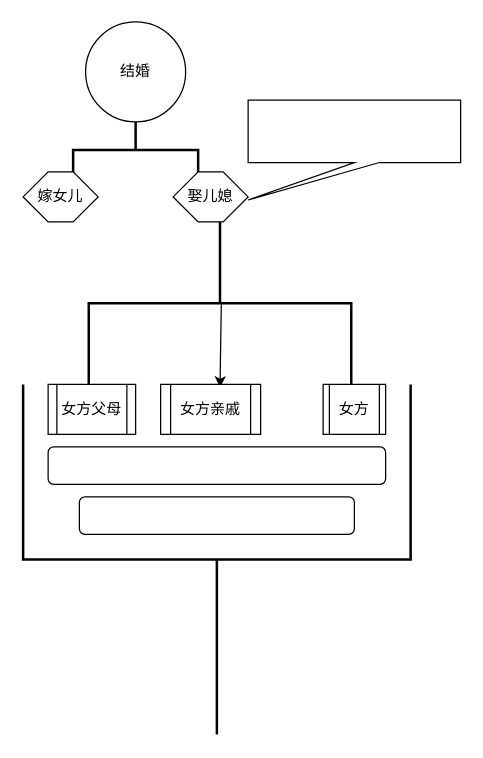
Image size: 483x758. Some labels were removed from this diagram. The centre of each missing label's shape, as x and y in pixels:
"性格、底线、听谁话、能否当家" belongs at (x=216, y=515).
"用最小的代价，把儿媳娶到屋，并让其适应男方家的生活模式乃至认可喜欢男方家的生活模式" belongs at (x=354, y=149).
"顾虑（问题、想法）→情绪→态度→行为" belongs at (x=216, y=465).
